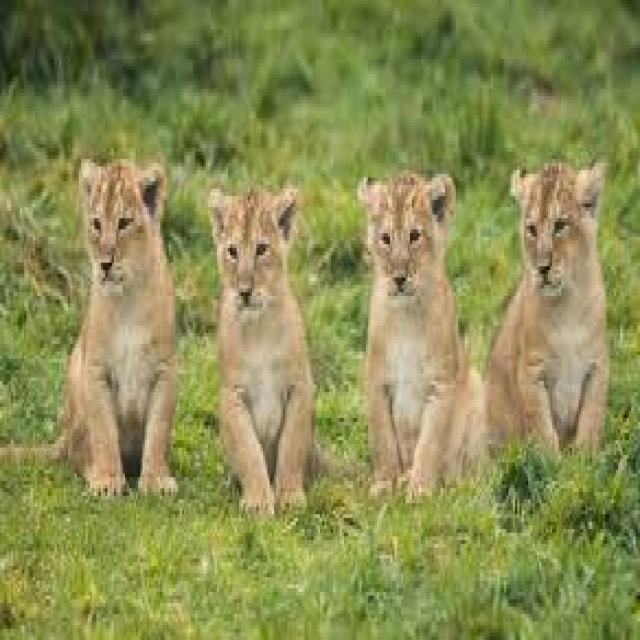Lion: (360, 168, 488, 499), (59, 158, 179, 498), (208, 184, 318, 514), (487, 159, 611, 451)
